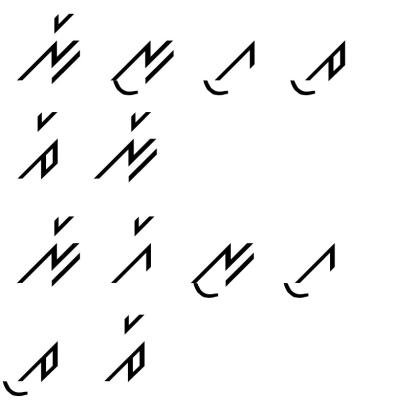gar: (108, 213, 158, 288)
gaw: (281, 236, 338, 303), (200, 39, 260, 99)
ngar: (88, 109, 162, 182), (16, 10, 85, 88), (17, 208, 82, 290)
ngaw: (182, 235, 257, 307), (108, 32, 176, 100)
tar: (14, 105, 62, 184), (102, 313, 151, 390)
taw: (288, 33, 352, 102), (2, 337, 60, 404)
